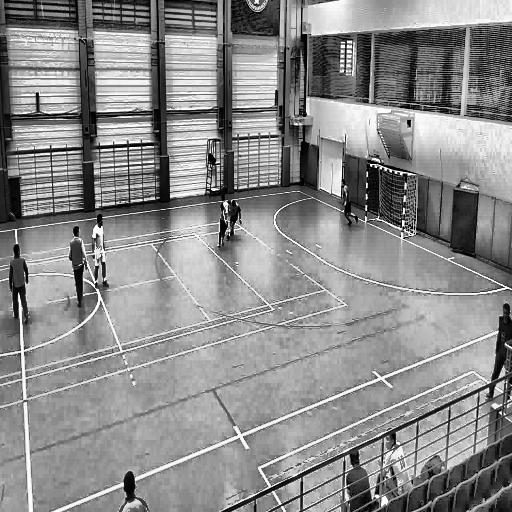ball: (226, 227, 233, 237)
player: (9, 243, 32, 329), (68, 224, 89, 312), (92, 214, 110, 291), (339, 177, 360, 231), (217, 191, 231, 249), (228, 196, 242, 242)
